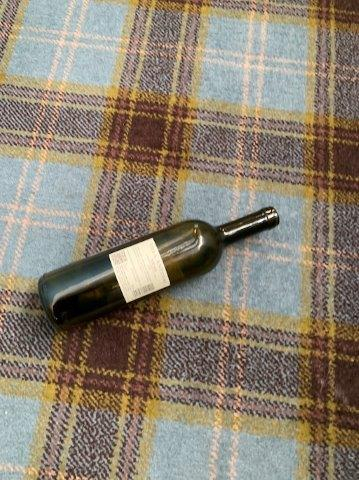botolkaca: (37, 207, 281, 327)
